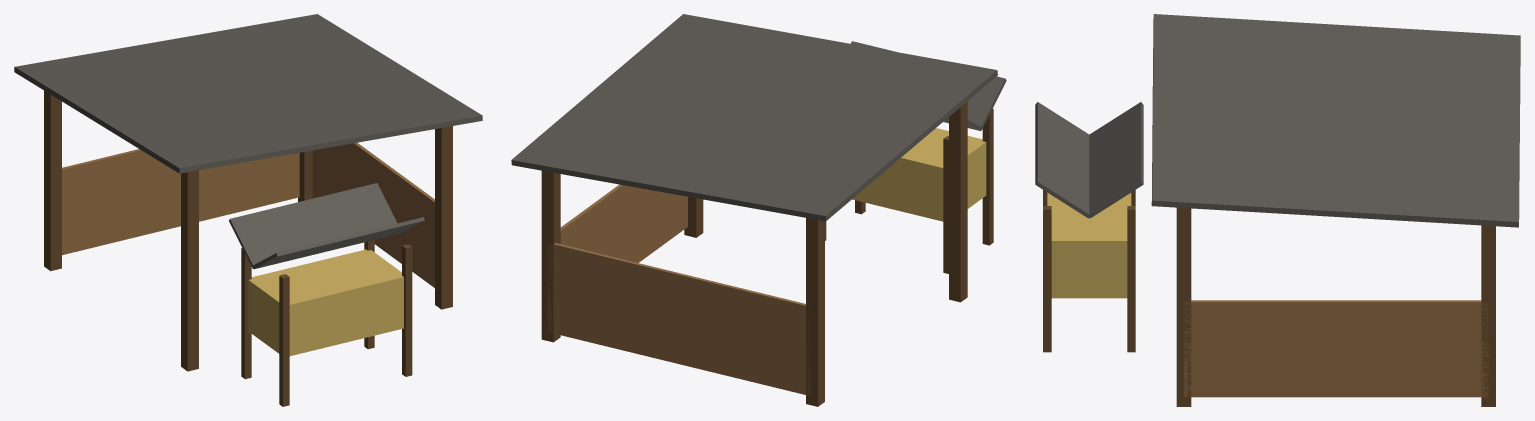
The model's file is pv_pastvina_pristresek.glb.
3 views of the same model, side by side, from view 1: azimuth 30°, elevation 25°; view 2: azimuth 150°, elevation 25°; view 3: azimuth 270°, elevation 25° (orthographic). The views are drawn at different scales.
Parts seen in each view (by area): view 1: pv_pastvina_pristresek; view 2: pv_pastvina_pristresek; view 3: pv_pastvina_pristresek.
Boxes of the visible parts, x1,y1,x2,y2 form: pv_pastvina_pristresek: [14, 14, 482, 406]; pv_pastvina_pristresek: [511, 14, 1006, 406]; pv_pastvina_pristresek: [1035, 14, 1520, 406].
Size of the model in its own units: 3.7 by 2.51 by 4.62.
1 material, 1 textured.
